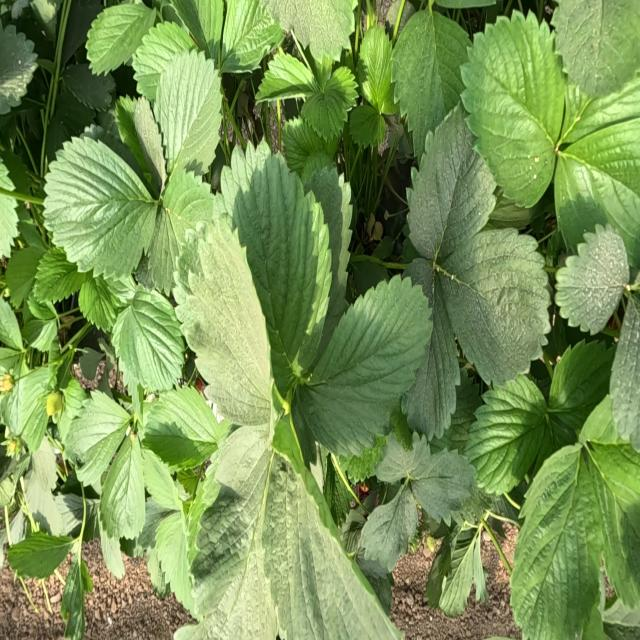Leaves: (218, 140, 332, 395), (296, 275, 431, 458), (264, 468, 402, 639), (462, 13, 565, 207), (183, 221, 270, 433), (188, 424, 274, 626), (513, 447, 603, 639), (440, 229, 550, 383), (44, 137, 154, 275), (408, 105, 495, 260), (555, 119, 639, 253), (394, 6, 470, 151), (582, 429, 639, 608), (463, 375, 547, 493), (303, 165, 352, 348), (376, 433, 476, 521), (403, 284, 459, 440), (149, 169, 215, 296), (553, 0, 639, 97), (155, 50, 222, 173), (556, 225, 629, 332), (113, 287, 183, 393), (547, 340, 614, 448), (142, 386, 218, 467), (66, 391, 130, 486), (360, 484, 418, 574), (133, 20, 197, 99), (86, 0, 155, 73), (411, 446, 476, 522), (114, 98, 166, 192), (23, 438, 73, 535), (100, 434, 146, 539), (289, 0, 355, 68), (609, 302, 639, 451), (303, 67, 357, 149), (154, 503, 194, 613), (221, 0, 282, 71), (431, 370, 482, 453), (440, 529, 485, 616), (3, 366, 55, 440), (44, 88, 94, 162), (283, 117, 338, 181), (0, 25, 37, 113), (79, 274, 135, 331), (256, 51, 317, 103), (358, 23, 393, 113), (7, 531, 72, 579), (61, 541, 92, 639), (33, 248, 88, 303), (172, 0, 223, 59), (143, 448, 187, 510), (62, 0, 102, 65), (5, 246, 45, 306), (64, 63, 113, 111), (337, 436, 387, 482), (323, 453, 352, 527), (427, 527, 453, 607), (349, 104, 386, 147), (2, 150, 32, 197), (100, 526, 123, 578), (1, 298, 22, 351), (1, 194, 17, 256)
Strawberries: (366, 213, 383, 242), (46, 392, 62, 416), (371, 221, 383, 242), (0, 375, 12, 391)
